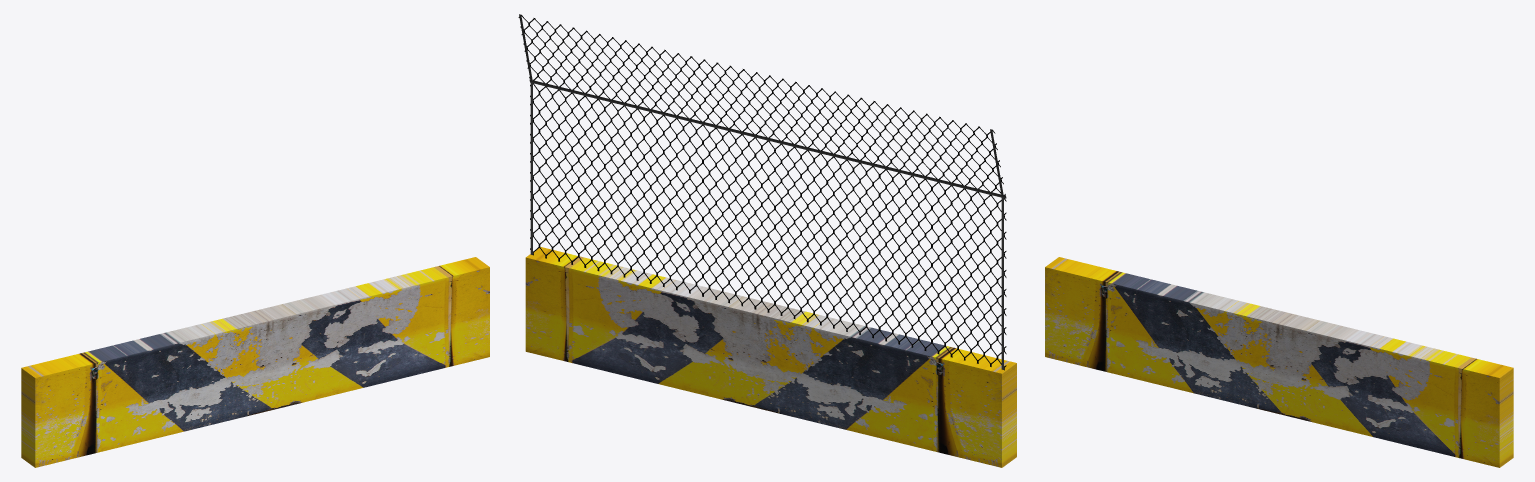
File: fence2.fbx
The picture shows the model from 3 angles, left to right: view 1: azimuth 30°, elevation 25°; view 2: azimuth 150°, elevation 25°; view 3: azimuth 330°, elevation 25°; orthographic projection. The views are drawn at different scales.
Parts seen in each view (by area): view 1: pCube3; view 2: pCube3; view 3: pCube3.
Part boxes in pixels (<box>): pCube3: <box>21,257,489,467</box>; pCube3: <box>518,14,1016,467</box>; pCube3: <box>1045,257,1513,467</box>.
Bounding box in the file's own units: 10.61 × 7.3 × 0.8557.
2 materials, 2 textured.
